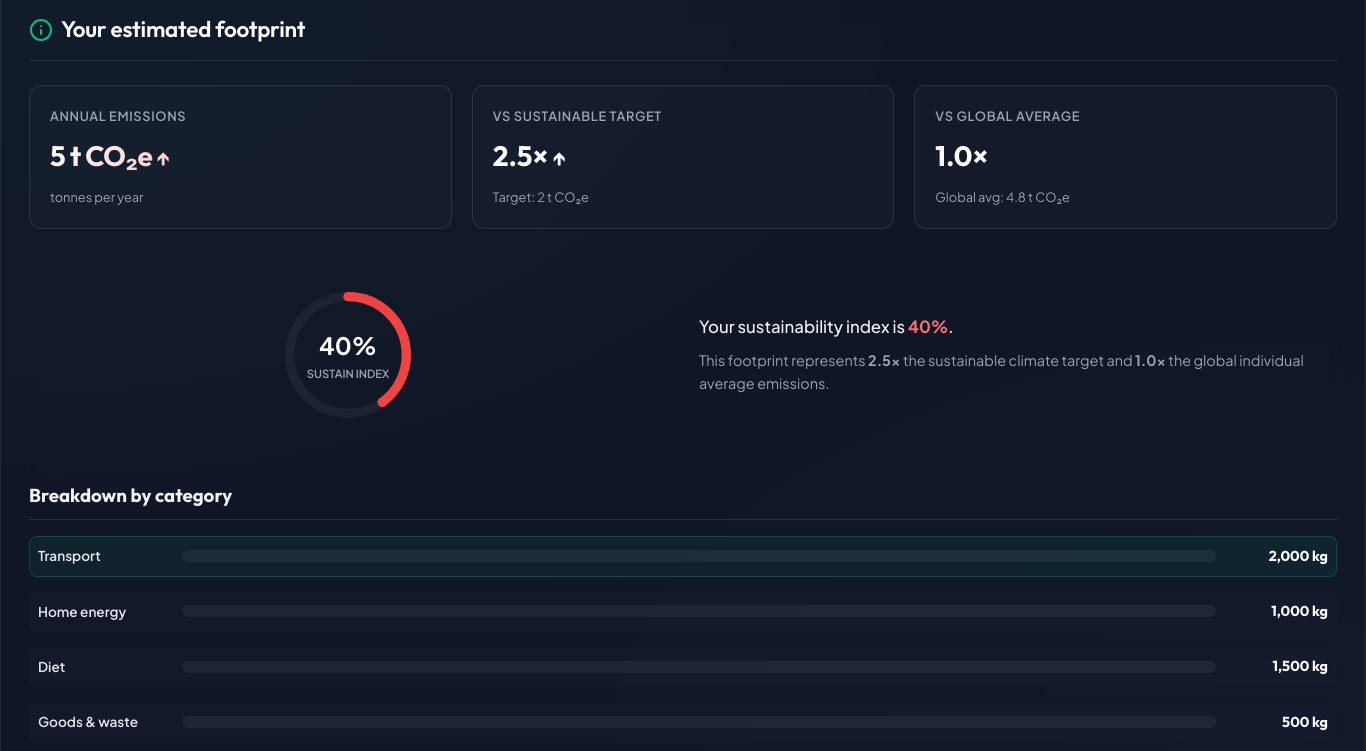
it: ResultBreakdown › shows category analysis when clicking on different categories
This screenshot has width=1366, height=751.
Note: Click on Diet
Step 1. Click the button "Diet 1,500 kg" → coordinates (683, 667), box [29,646,1337,687]
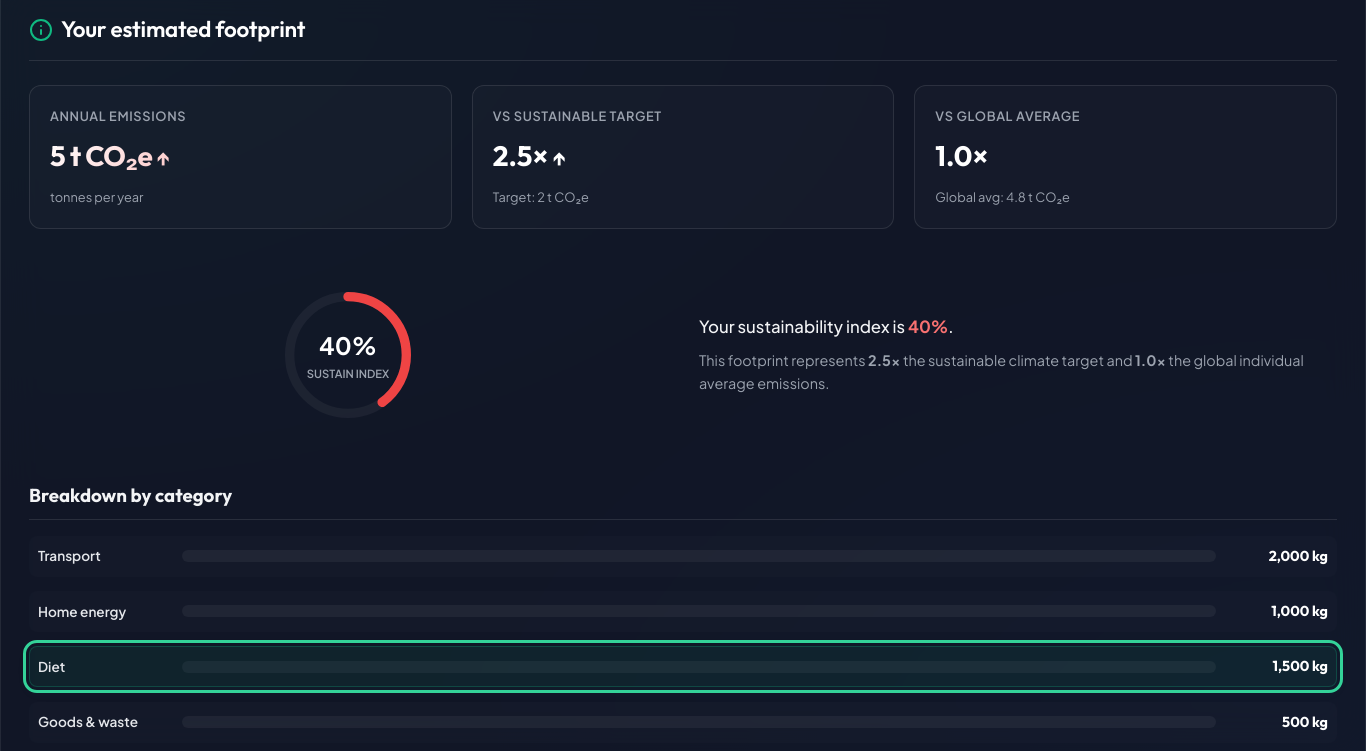
Note: Click on Consumption
Step 2. Click the button "Goods & waste 500 kg" → coordinates (683, 722), box [29,702,1337,743]
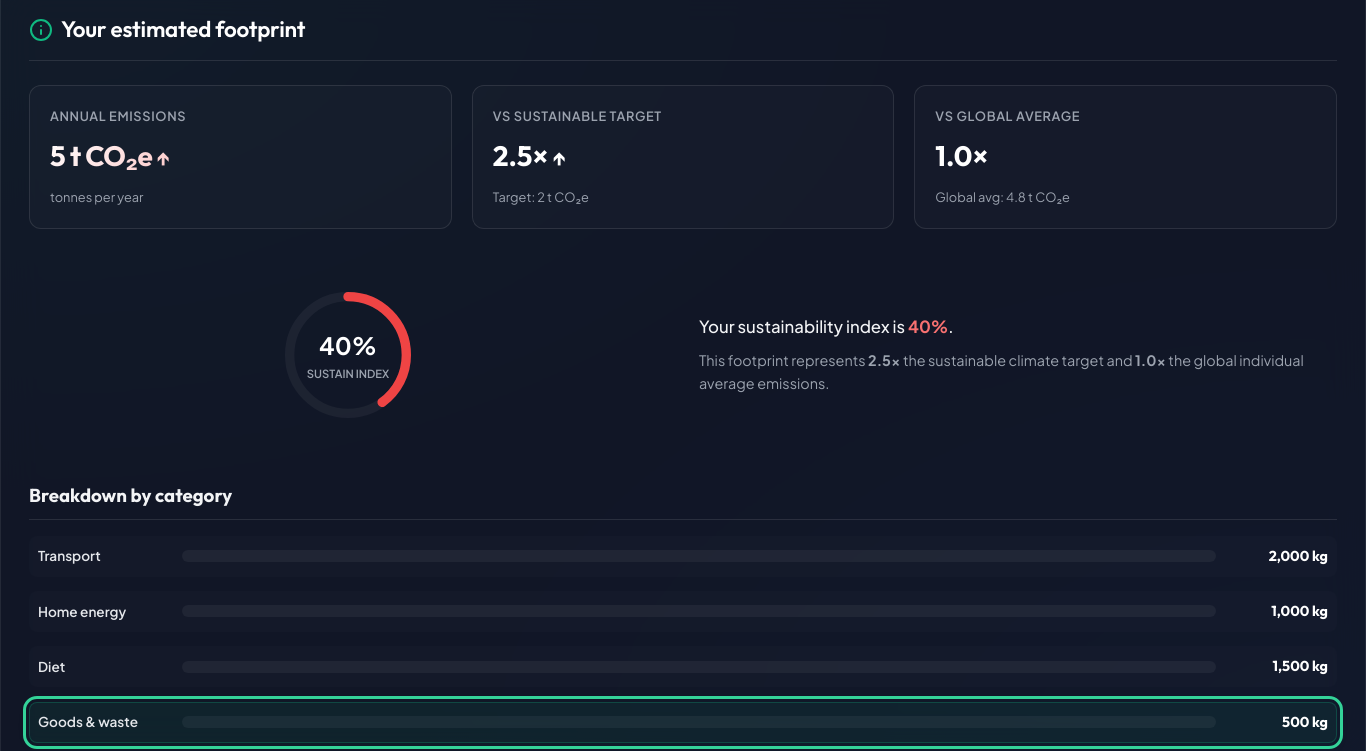
Note: Click on Transport
Step 3. Click the button "Transport 2,000 kg" → coordinates (683, 556), box [29,536,1337,576]
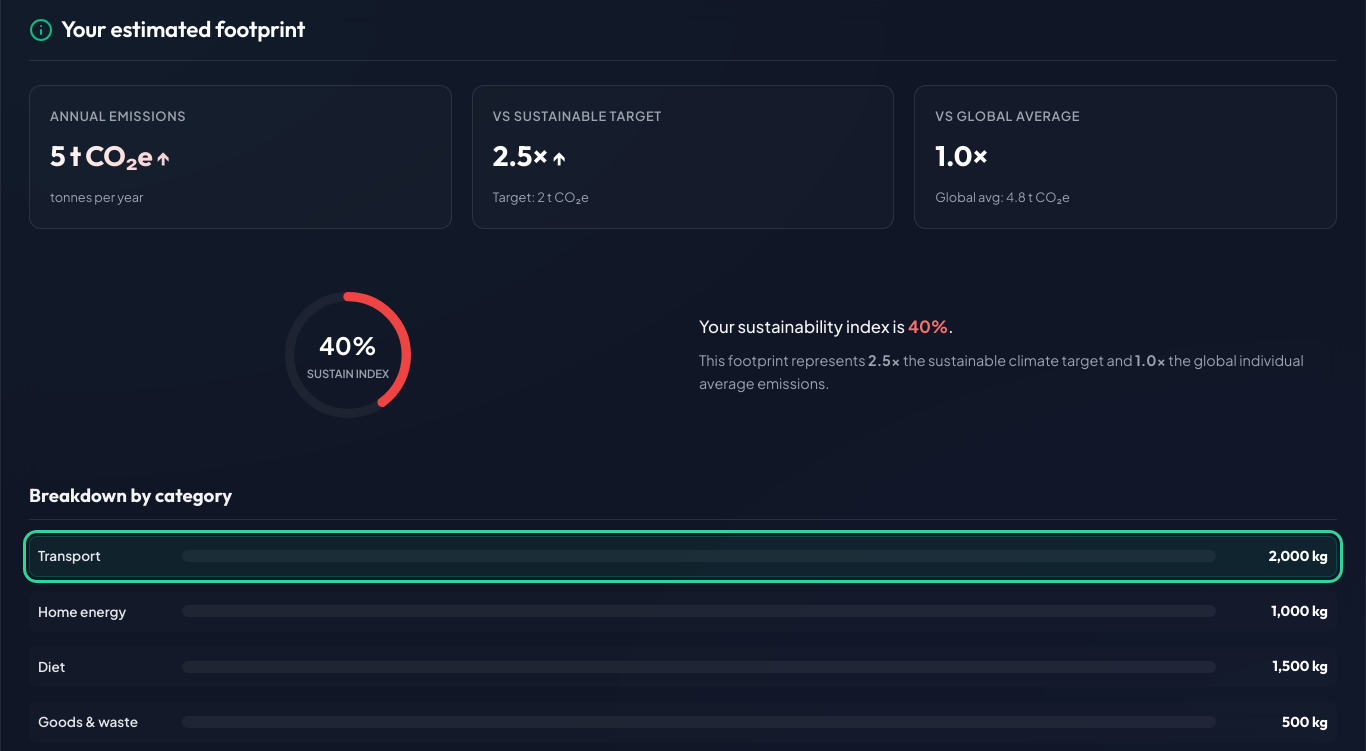
Note: Click on Home
Step 4. Click the button "Home energy 1,000 kg" → coordinates (683, 612), box [29,591,1337,632]
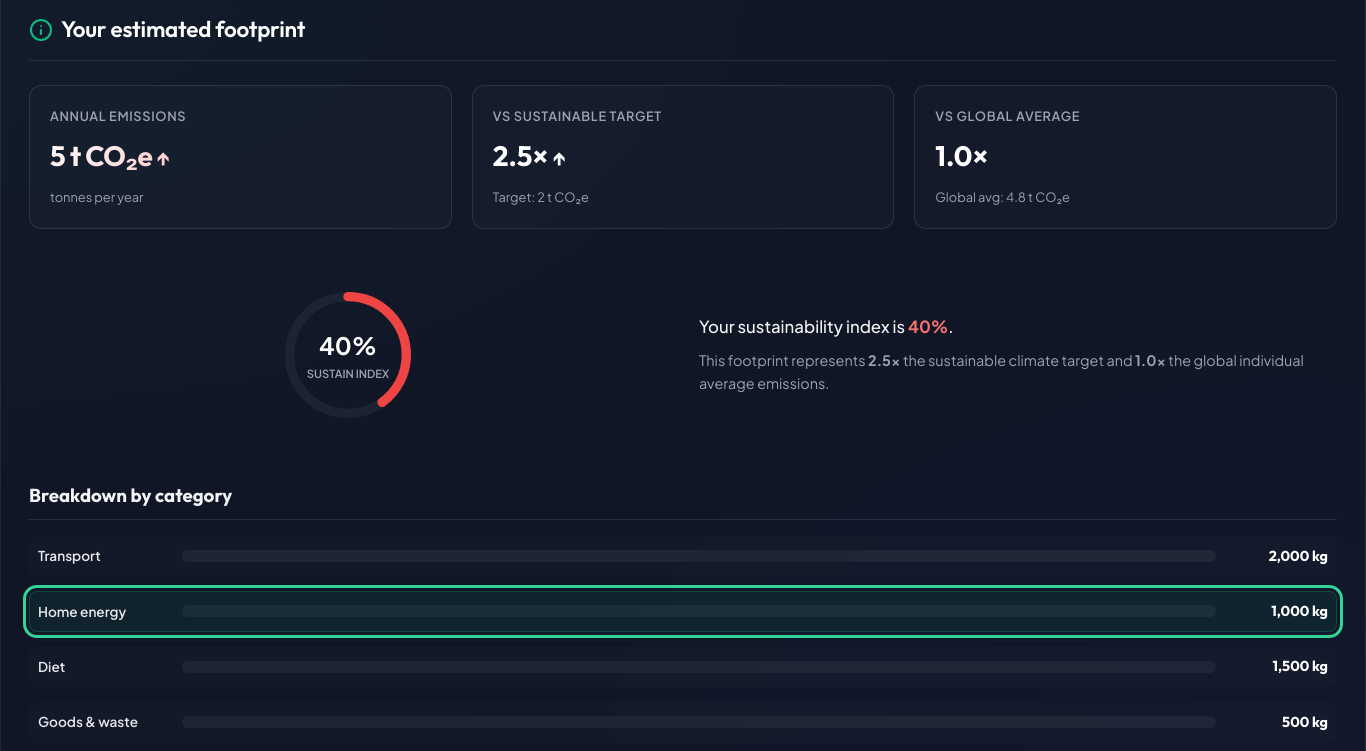
Note: Trigger keydown on Transport
Step 5. Press Enter in the button "Transport 2,000 kg", box [29,536,1337,576]
(page scrolled)
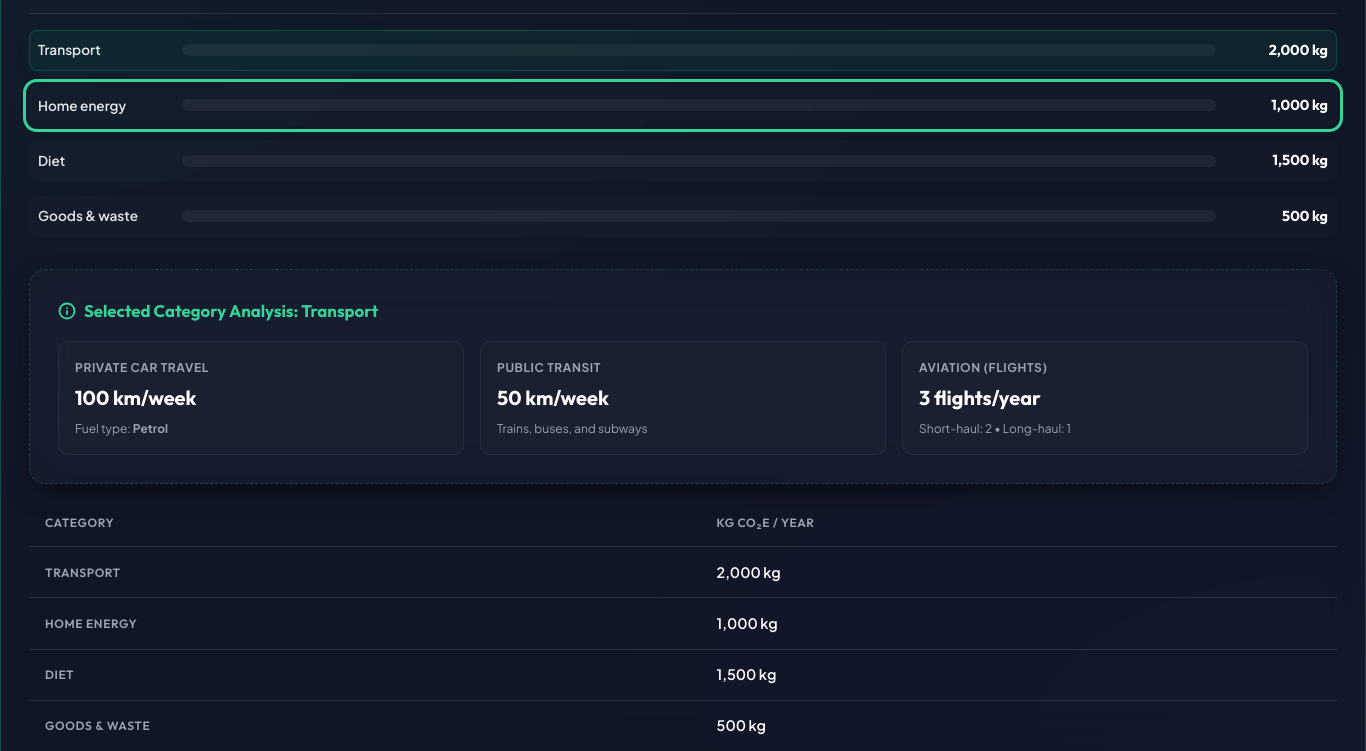
Expected: the text "Private Car Travel" is shown, [75,360,209,375]
